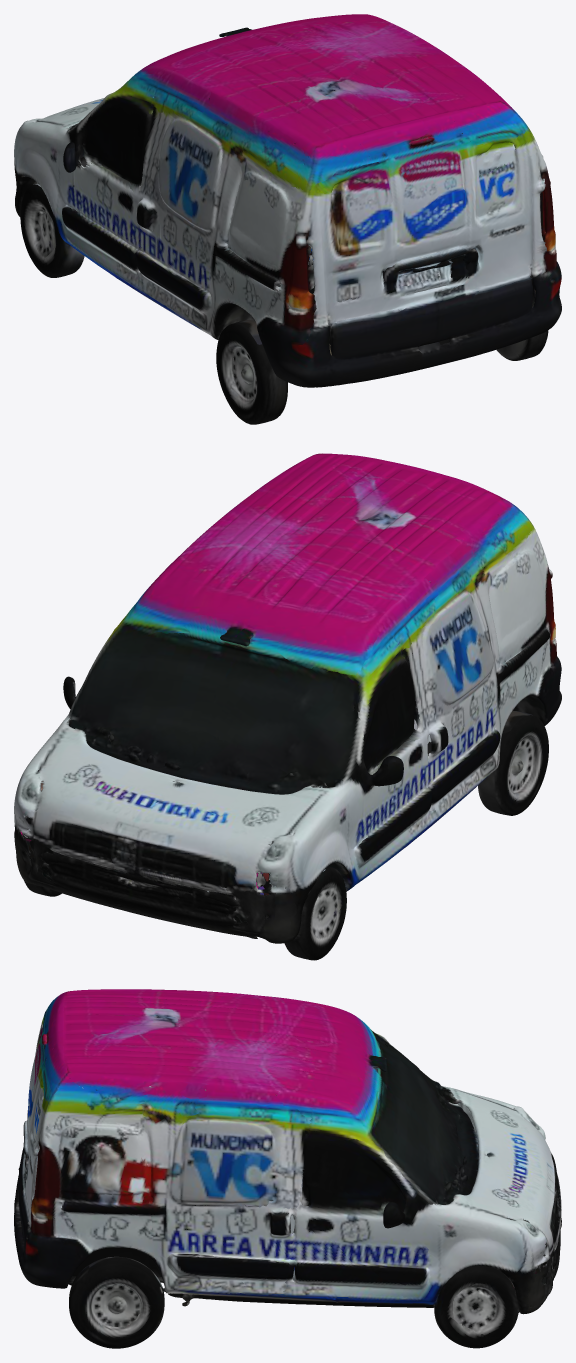
File: Salud.fbx
The picture shows the model from 3 angles, top to bottom: view 1: azimuth 30°, elevation 25°; view 2: azimuth 150°, elevation 25°; view 3: azimuth 270°, elevation 25°; orthographic projection. The views are drawn at different scales.
Parts seen in each view (by area): view 1: tripo_node_7a819f08; view 2: tripo_node_7a819f08; view 3: tripo_node_7a819f08.
Part boxes in pixels (<box>): tripo_node_7a819f08: <box>14,14,561,424</box>; tripo_node_7a819f08: <box>14,453,561,960</box>; tripo_node_7a819f08: <box>14,989,561,1348</box>.
Bounding box in the file's own units: 64.52 × 52.57 × 99.99.
Materials: 1 (1 with a texture image).
